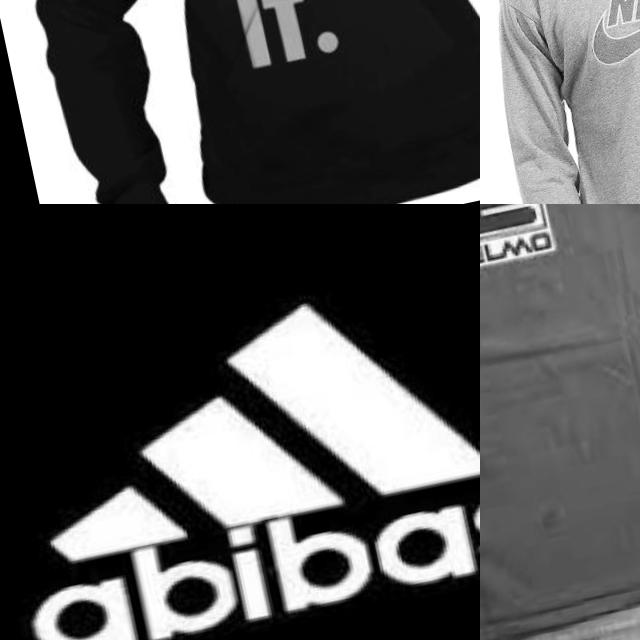ADIDAS_fake: (10, 461, 480, 640)
ADIDAS_original: (0, 232, 480, 575)
FILA_fake: (480, 204, 586, 284)
NIKE_original: (560, 0, 640, 86)
